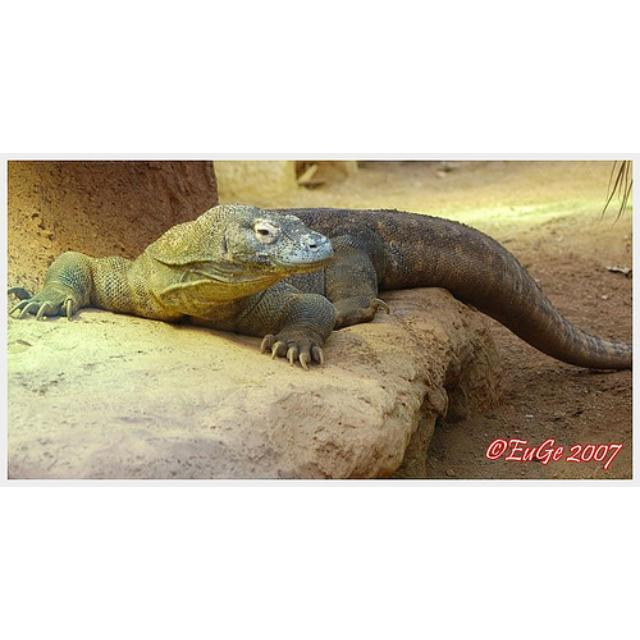KomodoDragon: (7, 202, 627, 372)
